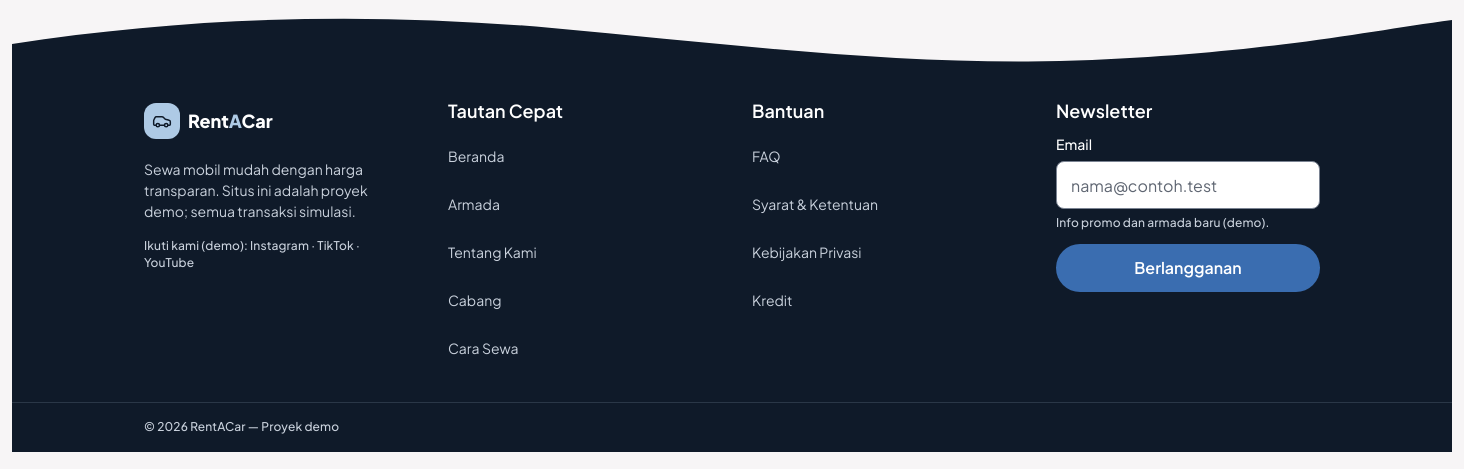
Test: Footer › shows the simulation toast for a valid email without any request
Type "budi@example.test" into the field labelled "Email".
click(1188, 185); type("budi@example.test")  # box [1056,161,1320,209]
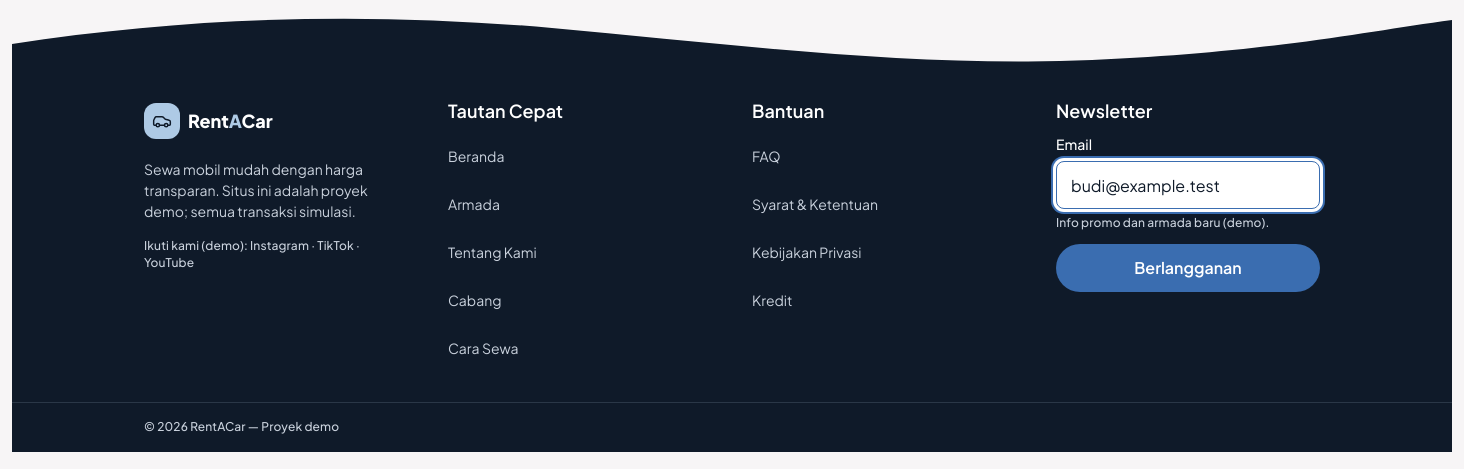
Click the button "Berlangganan".
click(1188, 268)  # box [1056,244,1320,292]
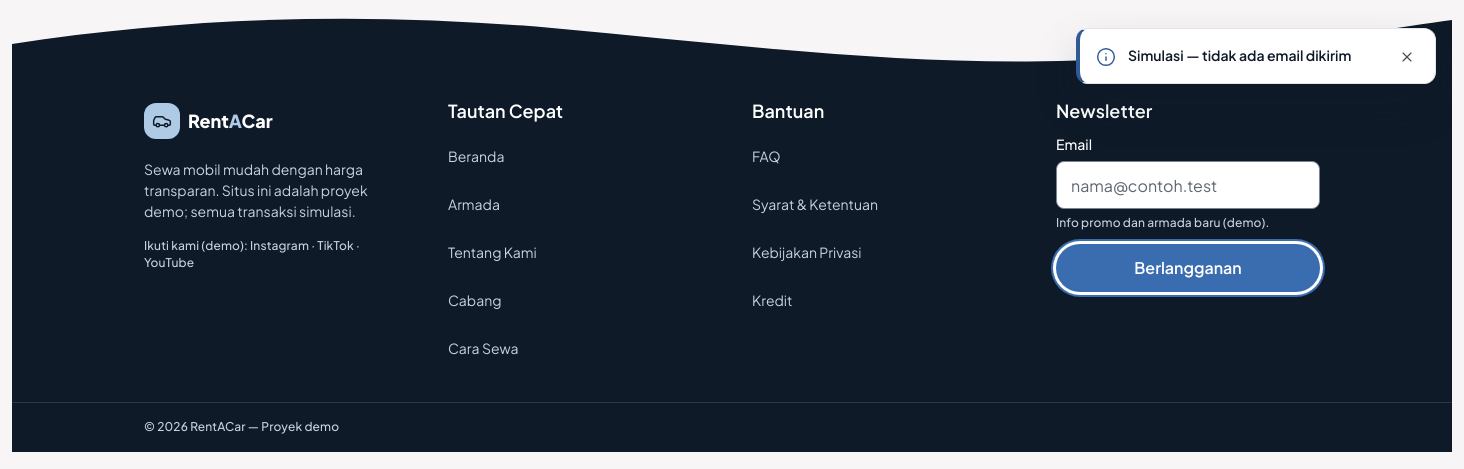
expect the text "Simulasi — tidak ada email dikirim" is shown: met, box [1128,45,1351,66]
expect the field labelled "Email" is empty: met, box [1056,161,1320,209]
